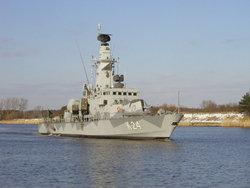warship: (36, 22, 184, 139)
